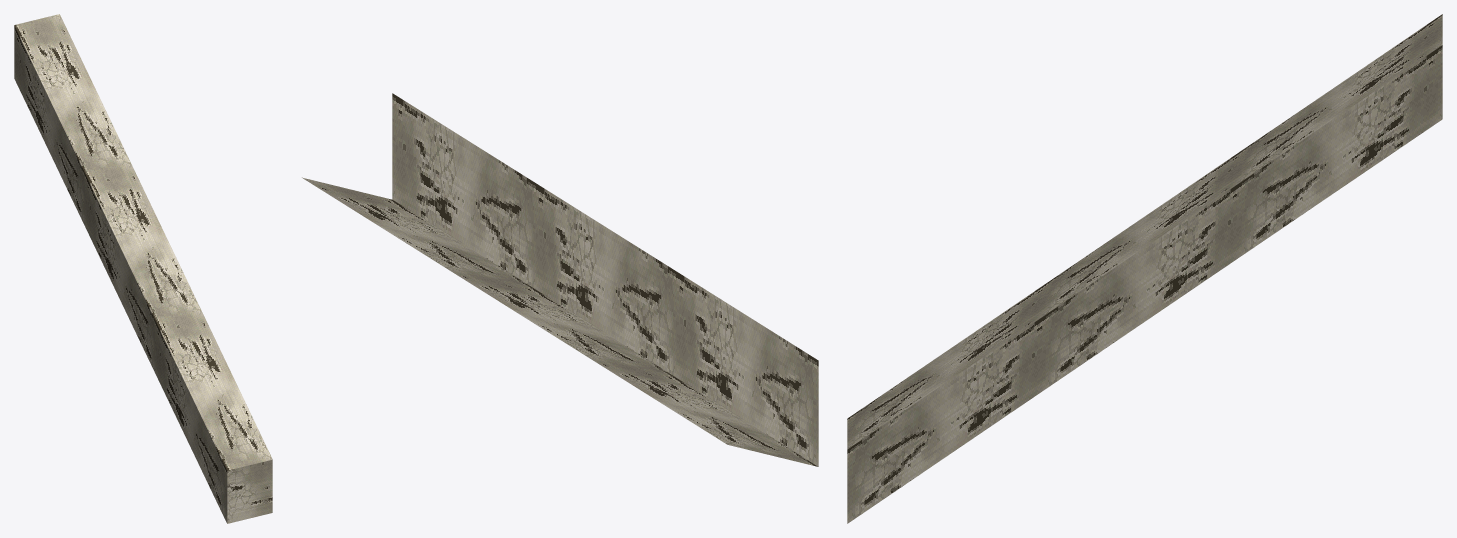
File: house_roof_edge.glb
3 renders of one model, left to right at view 1: azimuth 30°, elevation 25°; view 2: azimuth 150°, elevation 25°; view 3: azimuth 270°, elevation 25°, orthographic. The views are drawn at different scales.
Parts seen in each view (by area): view 1: house_roof_edge; view 2: house_roof_edge; view 3: house_roof_edge.
Part boxes in pixels (x1,y1,x2,y2): house_roof_edge: [14, 14, 272, 523]; house_roof_edge: [302, 93, 818, 466]; house_roof_edge: [847, 14, 1442, 523].
Bounding box in the file's own units: 0.3 × 2.16 × 2.43.
Materials: 1 (1 with a texture image).
